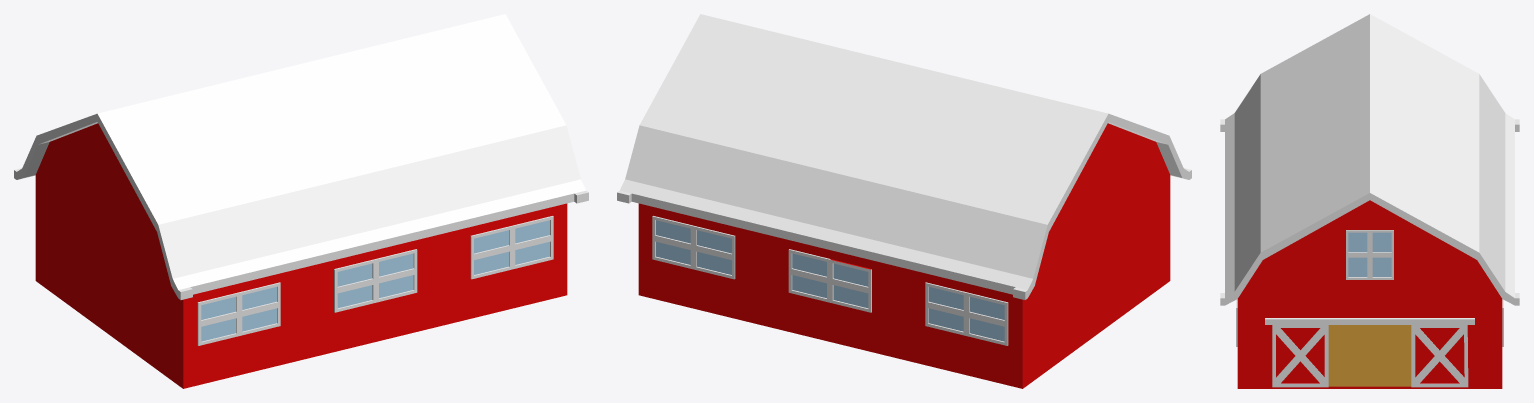
The model's file is Barn 2.fbx.
The picture shows the model from 3 angles, left to right: view 1: azimuth 30°, elevation 25°; view 2: azimuth 150°, elevation 25°; view 3: azimuth 270°, elevation 25°; orthographic projection. The views are drawn at different scales.
Parts seen in each view (by area): view 1: barn good; view 2: barn good; view 3: barn good.
Part boxes in pixels (bbox=[...]): barn good: bbox=[14, 14, 588, 388]; barn good: bbox=[617, 14, 1191, 388]; barn good: bbox=[1220, 14, 1519, 388].
Size of the model in its own units: 1495 by 785 by 1058.
